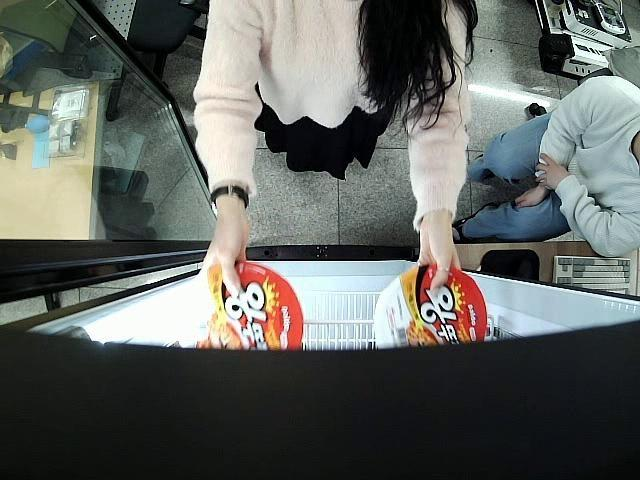10_wangTtukkeong: (183, 261, 303, 352), (373, 265, 487, 351)
